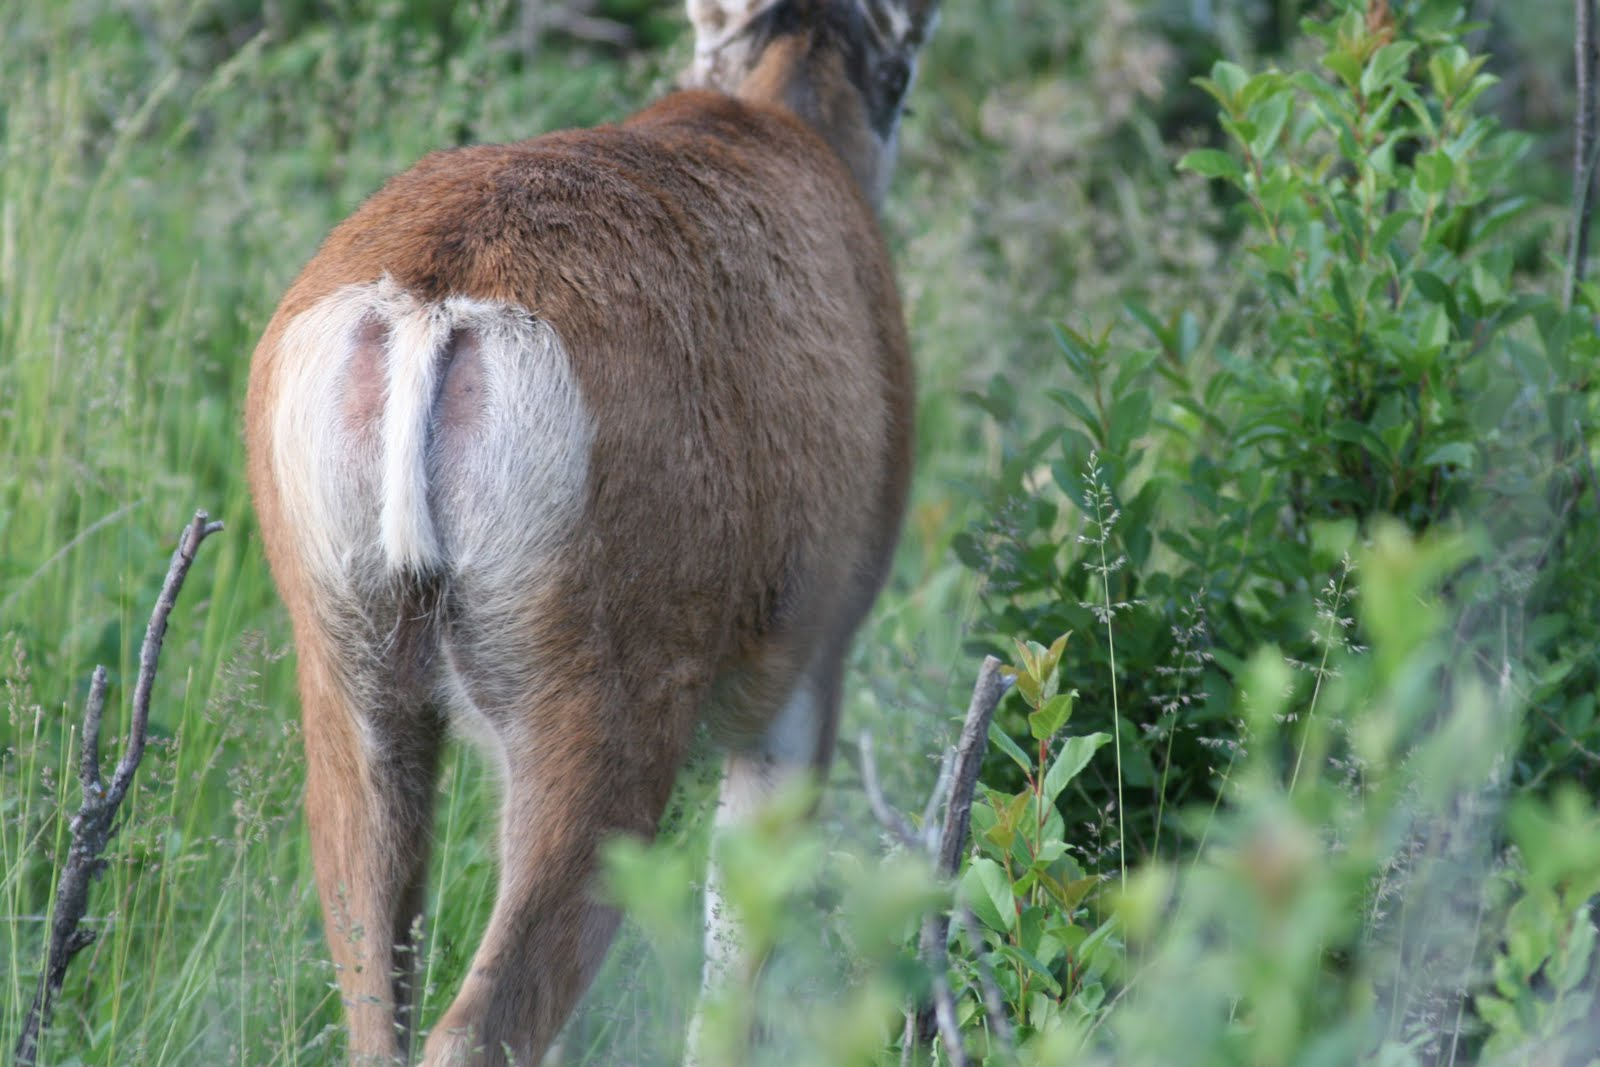Deer: (227, 1, 938, 1057)
